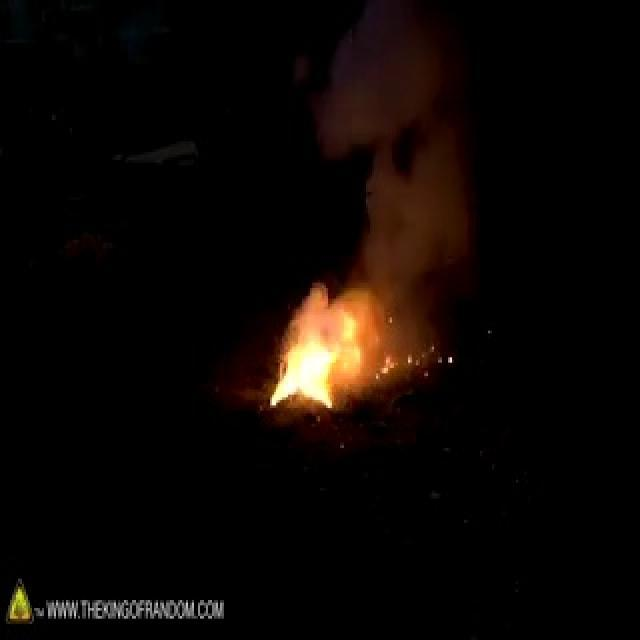Fire: (252, 216, 382, 443)
